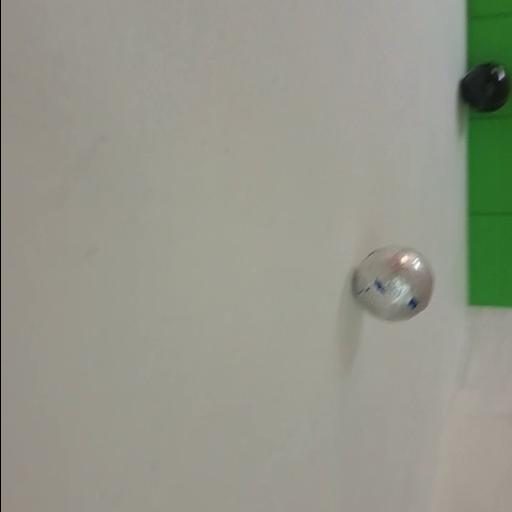alive: (352, 246, 434, 322)
dead: (460, 62, 510, 112)
